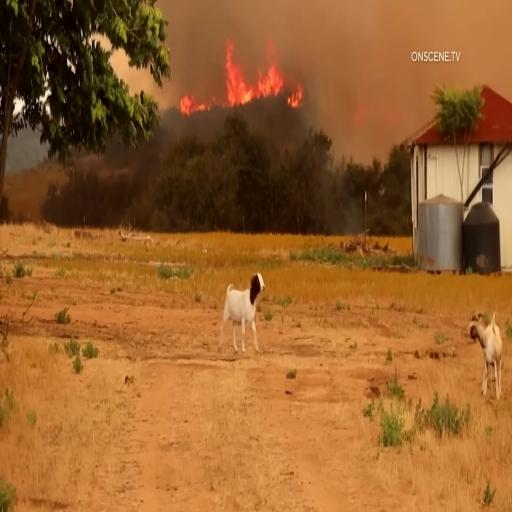fire: (218, 24, 289, 114), (164, 86, 210, 132), (285, 81, 318, 115)
smoke: (345, 11, 392, 111)
